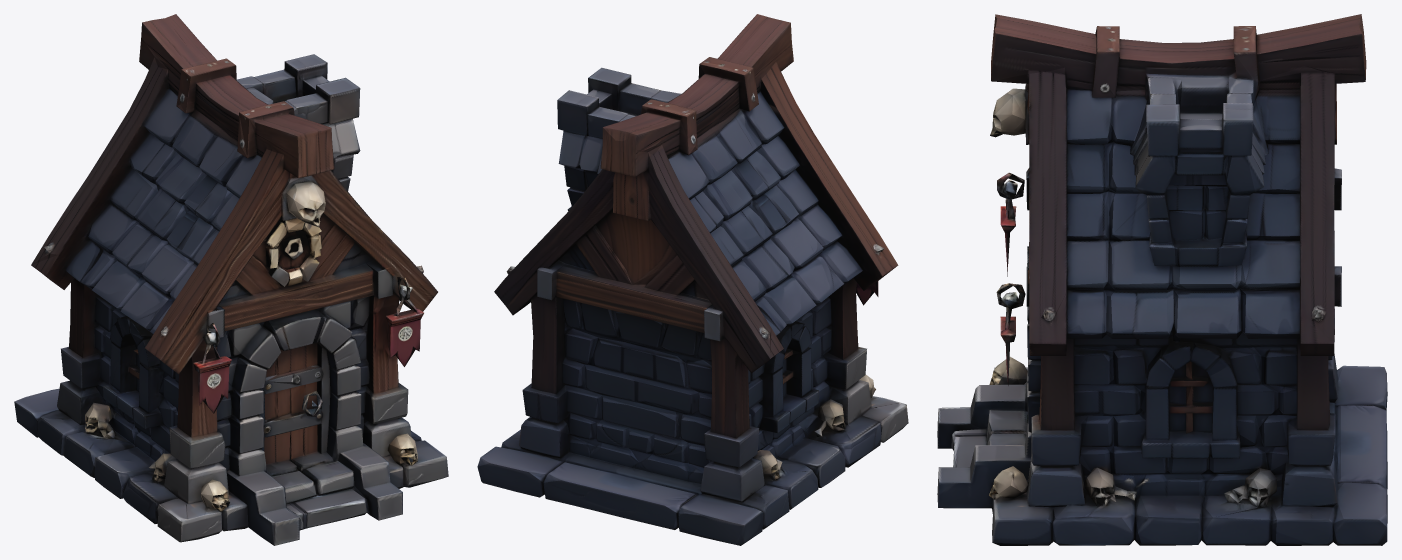
The model's file is base_basic_pbr.fbx.
3 views of the same model, side by side, from view 1: azimuth 30°, elevation 25°; view 2: azimuth 150°, elevation 25°; view 3: azimuth 270°, elevation 25° (orthographic). The views are drawn at different scales.
Visible parts, largest first — view 1: model; view 2: model; view 3: model.
Boxes of the visible parts, x1=… form: model: x1=14, y1=14, x2=448, y2=545; model: x1=477, y1=14, x2=908, y2=545; model: x1=937, y1=14, x2=1387, y2=545.
Size of the model in its own units: 11.48 by 15 by 13.65.
Materials: 1 (1 with a texture image).
